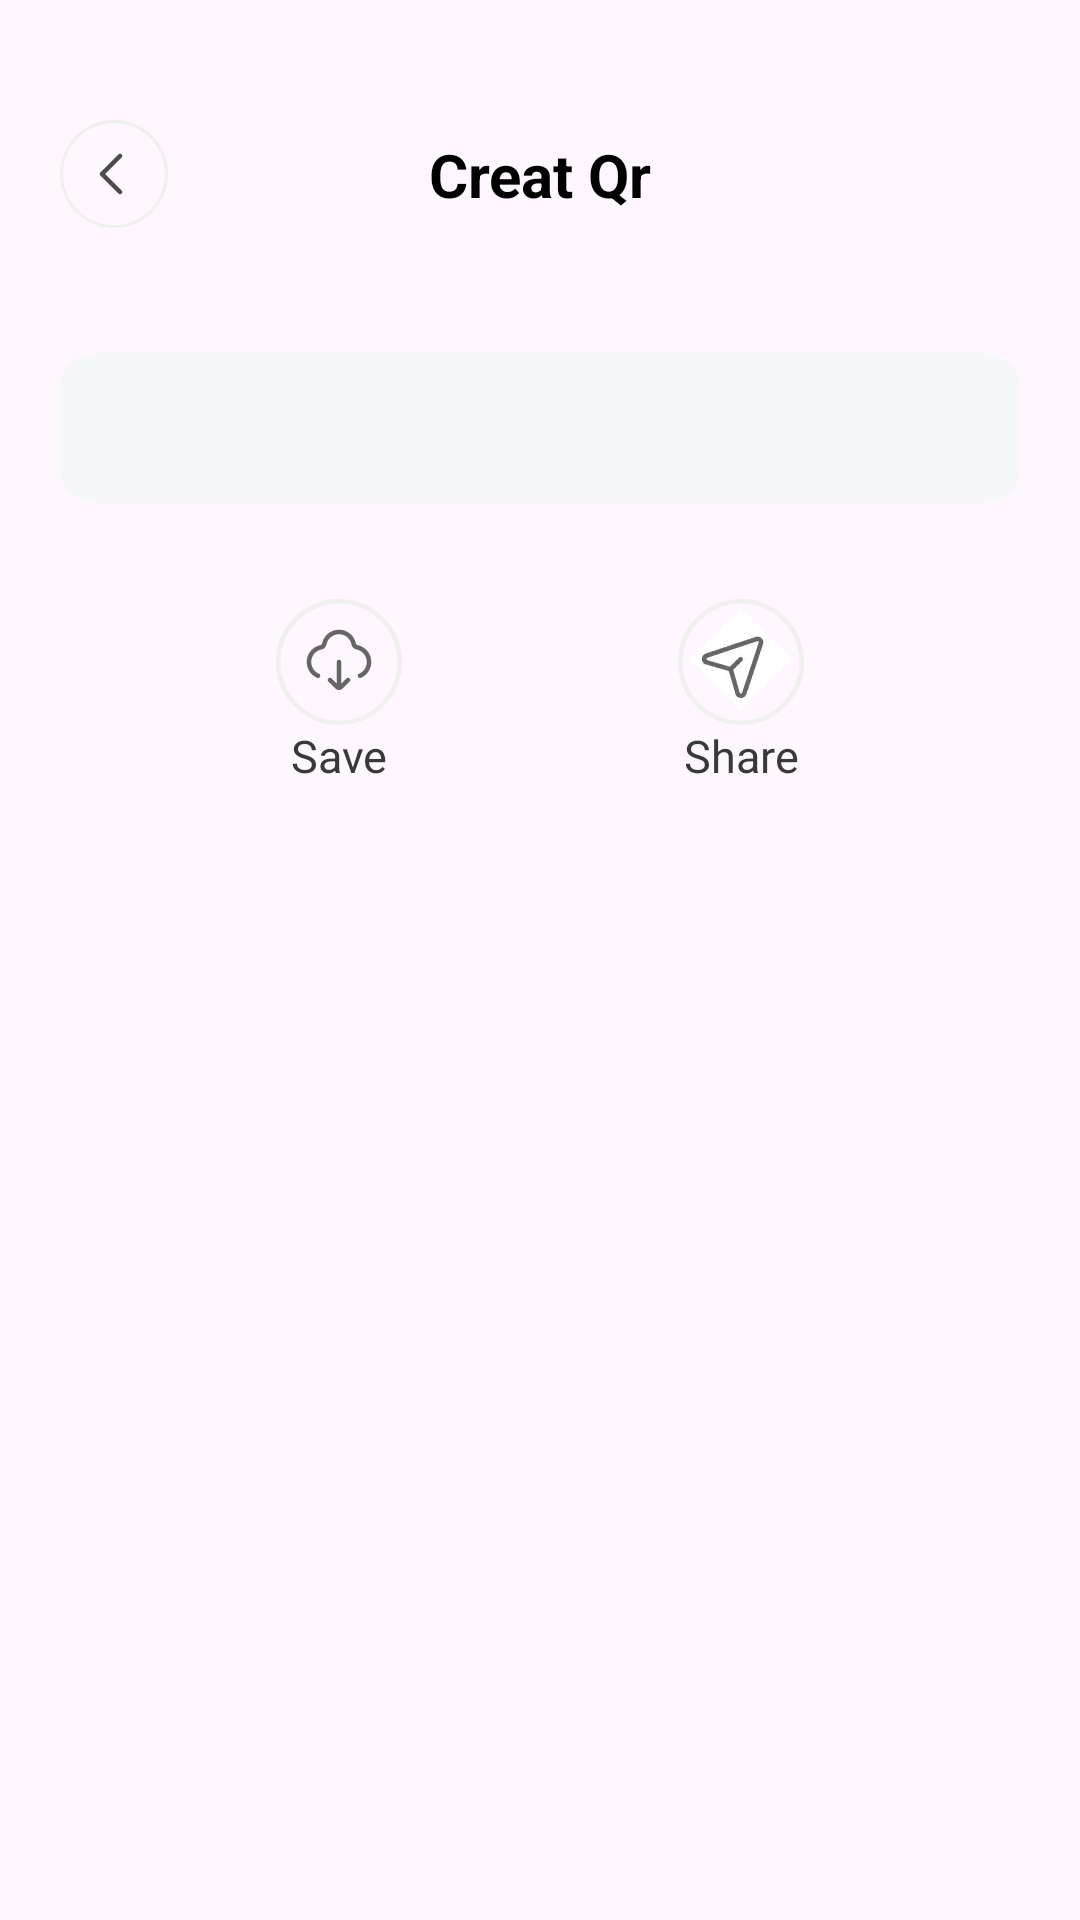

Where icons sit on this 1080px x 1920px app screen, as (x1, y1, x2, y2):
back: (99, 153, 123, 195)
